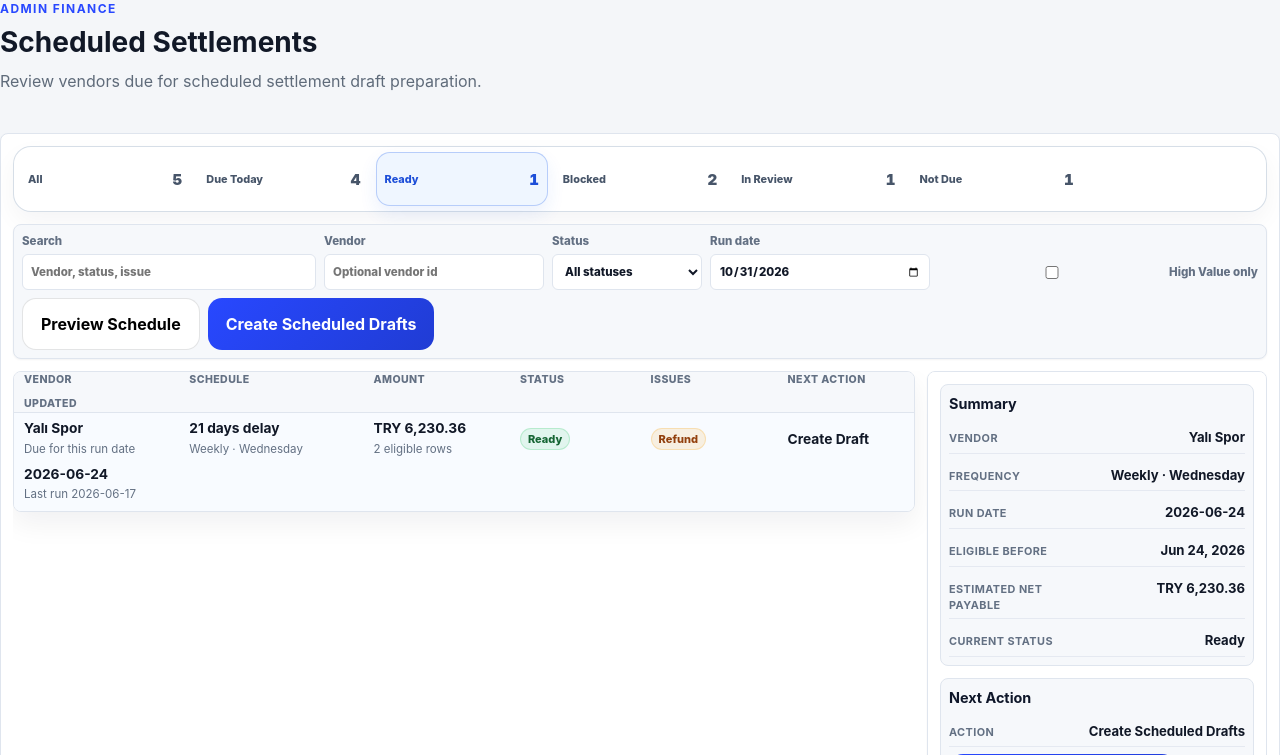
Test: AdminScheduledSettlementsPage › shows backend errors when scheduled draft creation fails
Click the button "Create Scheduled Drafts" below "Search".
click(321, 324)  # box [208,298,434,350]
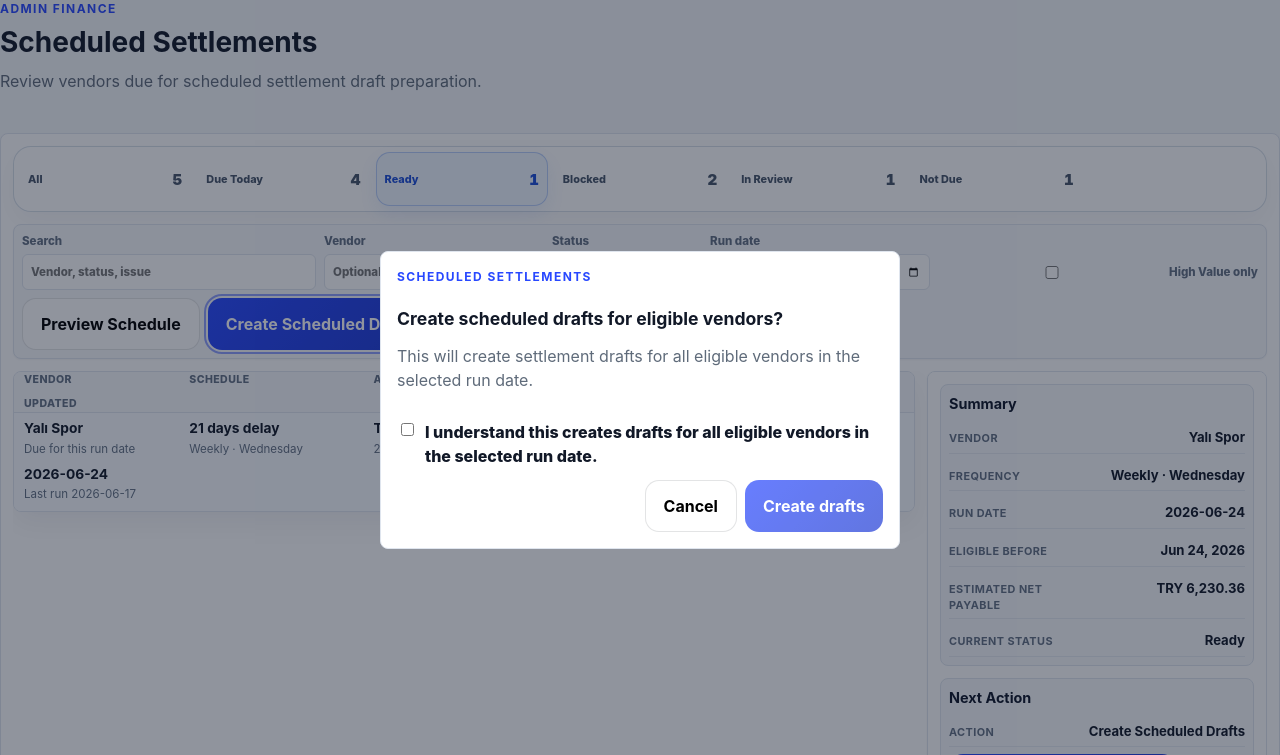
Click the checkbox named "I understand this creates drafts for all eligible vendors in the selected run date.".
click(408, 430)  # box [401,423,414,436]
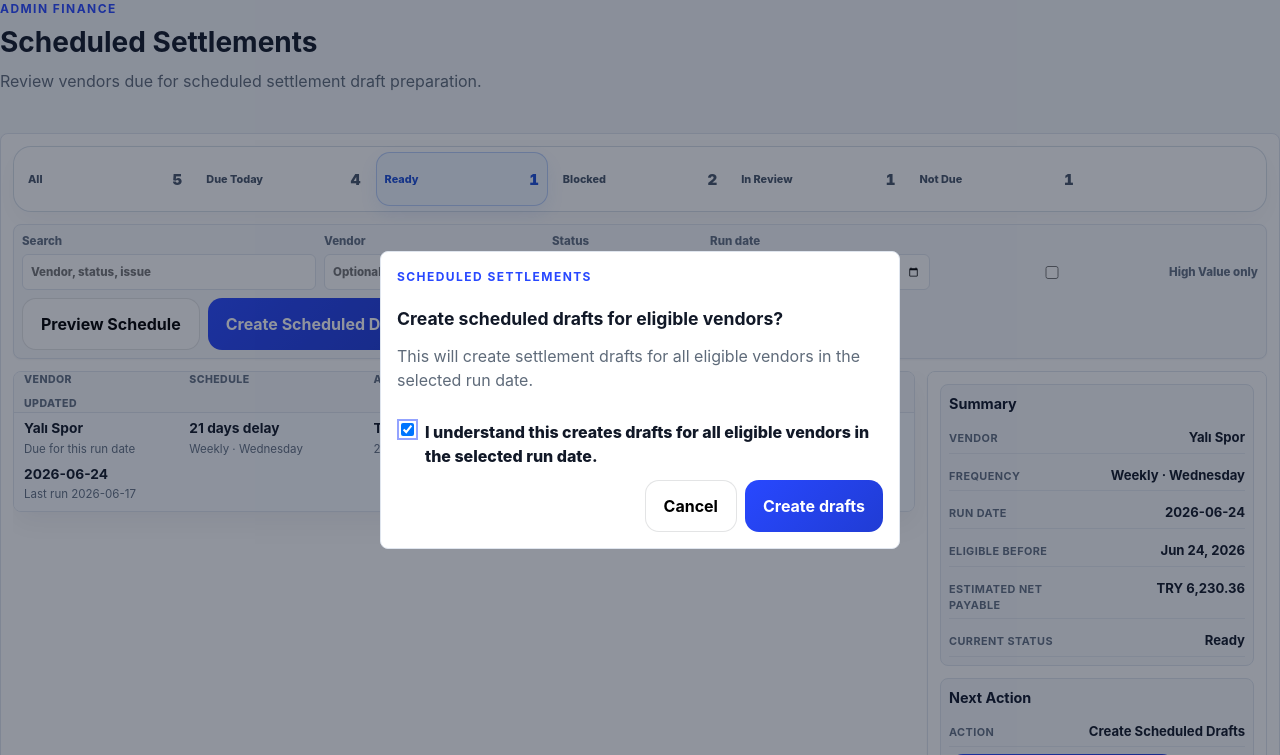
Click the button "Create drafts".
click(814, 506)  # box [745,480,883,532]
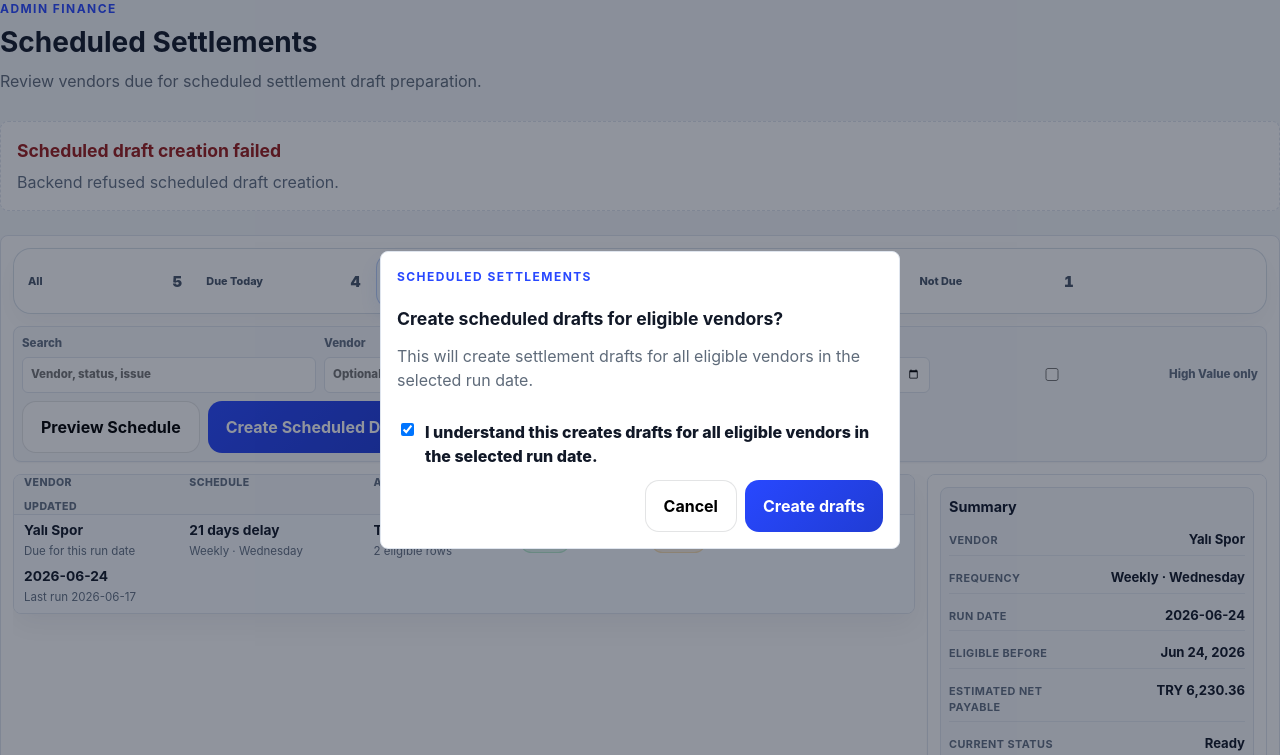
Expected: the text "Backend refused scheduled draft creation." is shown, [17,172,339,192]
